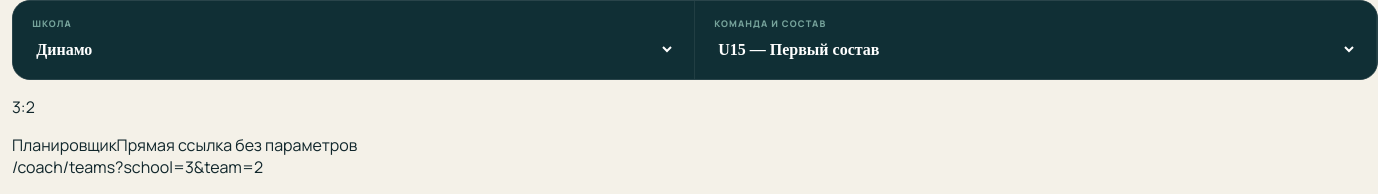
Test: coach school context › shows schools without a coaching assignment honestly instead of substituting another school
The image size is (1378, 194).
Expected: the text "/coach/teams?school=3&team=2" is shown, [12, 156, 263, 178]
Select "Без состава" in the dropdown named "Школа тренера": [354, 49] box [32, 36, 675, 63]
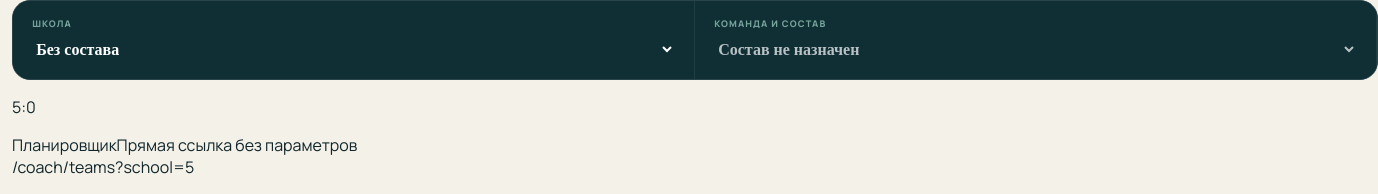
Expected: the dropdown labelled "КОМАНДА И СОСТАВ" is disabled, [714, 36, 1357, 63]
Expected: the message reads "5:0", [12, 96, 36, 118]
